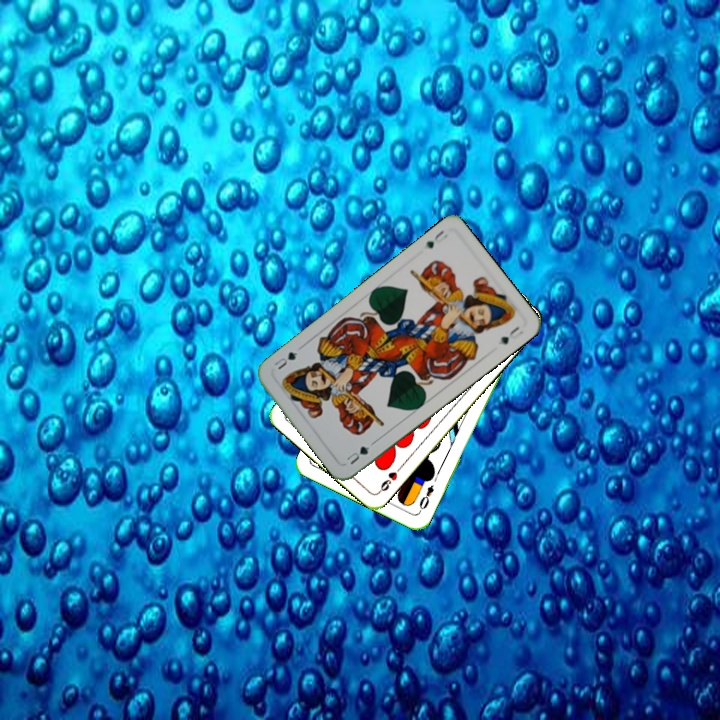EO: (415, 481, 436, 515)
GU: (341, 438, 377, 467), (421, 226, 450, 251)
H9: (374, 462, 404, 496)
